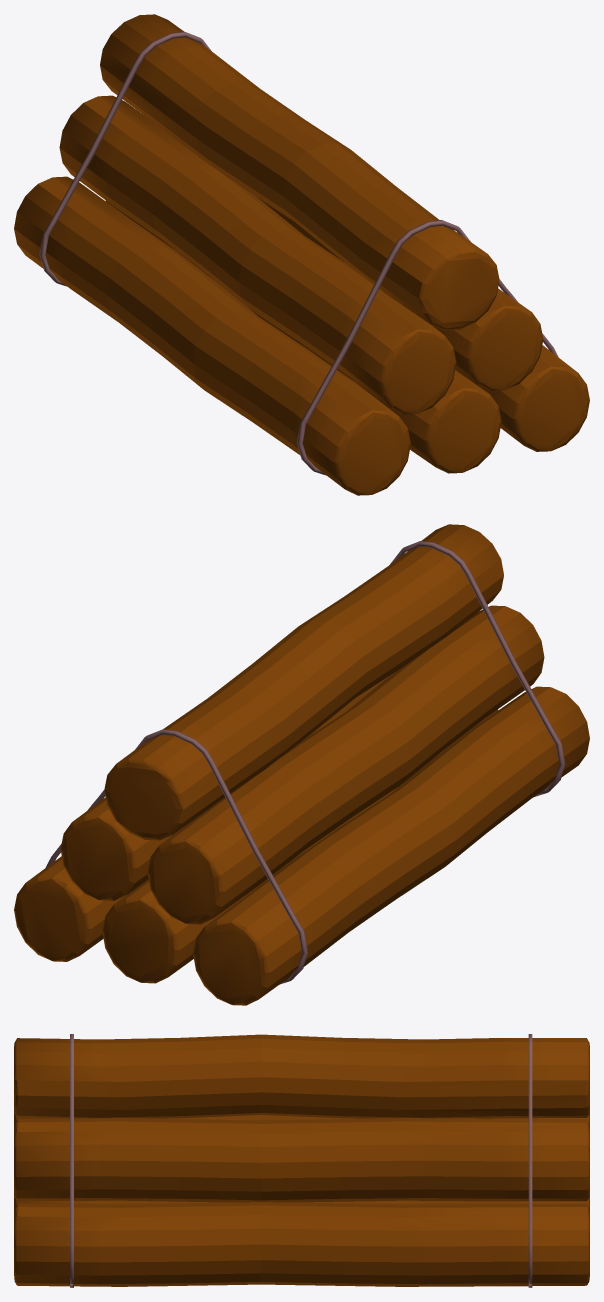
File: Logs_with_rope.fbx
3 renders of one model, top to bottom at view 1: azimuth 30°, elevation 25°; view 2: azimuth 150°, elevation 25°; view 3: azimuth 270°, elevation 25°, orthographic. The views are drawn at different scales.
Visible parts, largest first — view 1: Tronco.005; view 2: Tronco.005; view 3: Tronco.005.
Part boxes in pixels (left/top/right/bottom): Tronco.005: left=14, top=14, right=589, bottom=495; Tronco.005: left=14, top=524, right=589, bottom=1005; Tronco.005: left=14, top=1034, right=589, bottom=1287.
Bounding box in the file's own units: 426 × 352 × 900.
